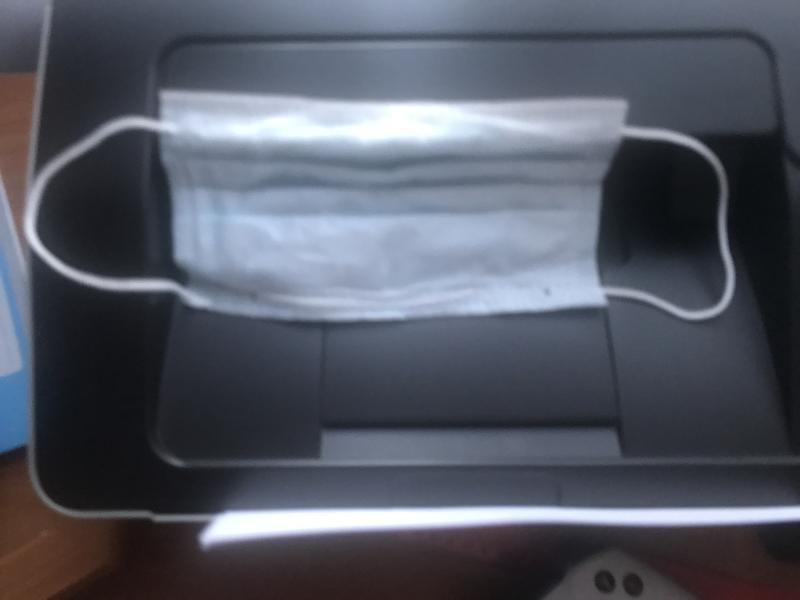medical_mask: (24, 89, 736, 322)
